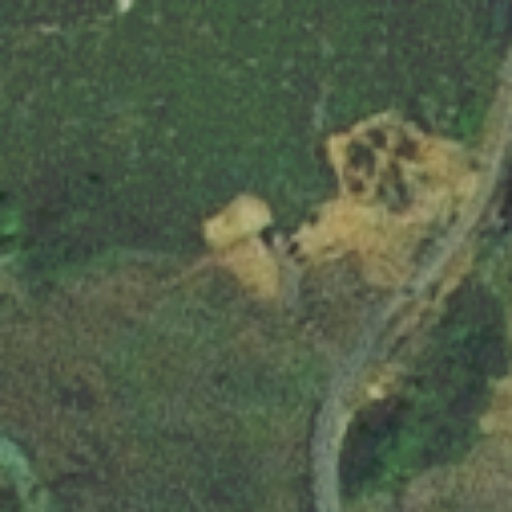landslide: (204, 119, 491, 307)
